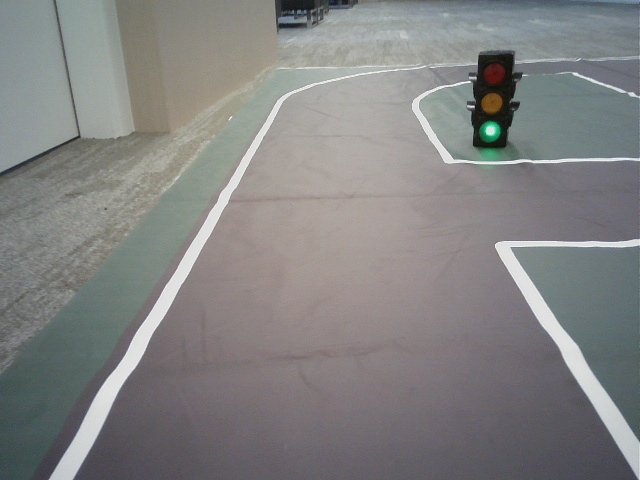green: (478, 56, 509, 140)
